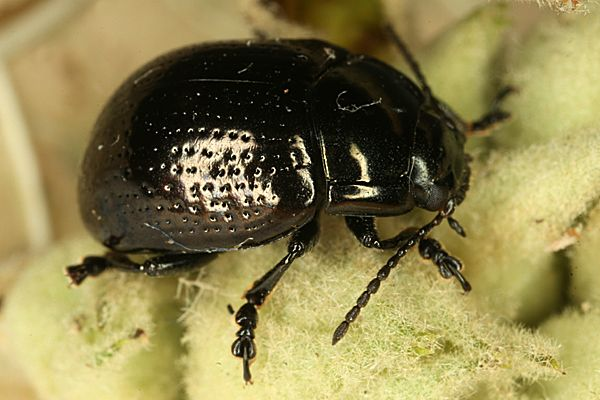Chrysolina_oricalcia: (53, 2, 480, 390)
